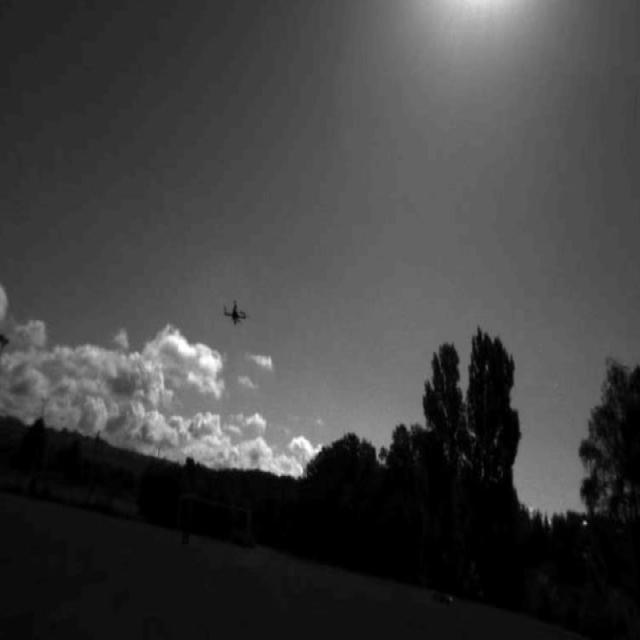drone: (222, 296, 248, 327)
